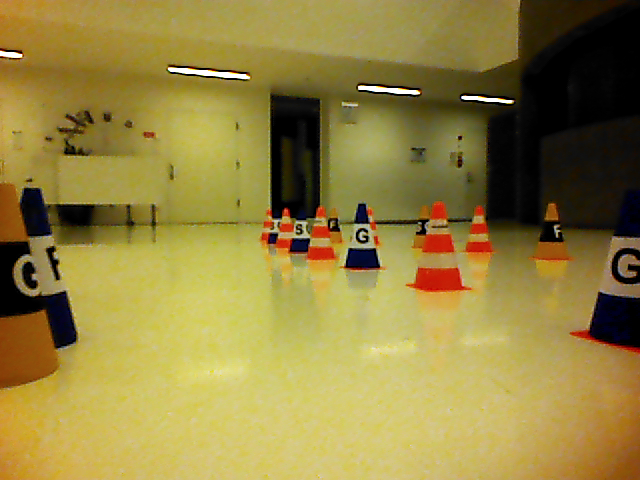bluecone: (590, 192, 640, 346), (343, 202, 382, 270)
orangeconesmall: (414, 202, 465, 289), (465, 204, 495, 251)
yellowcone: (535, 203, 569, 259)
